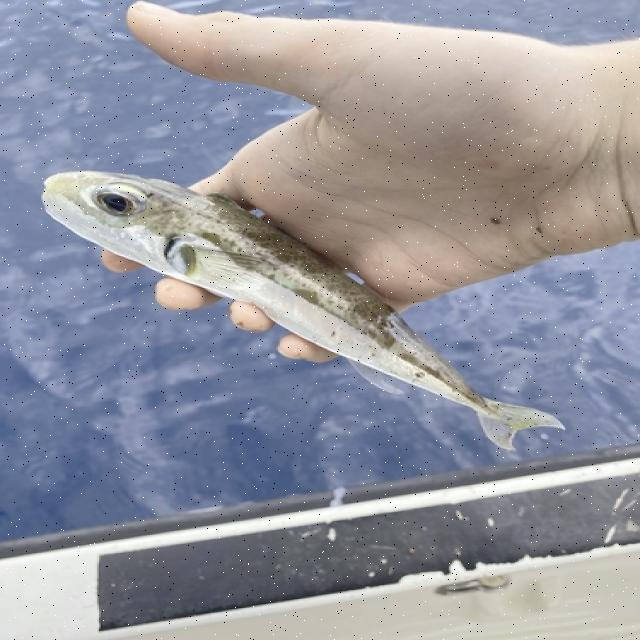Balik: (43, 172, 563, 449)
